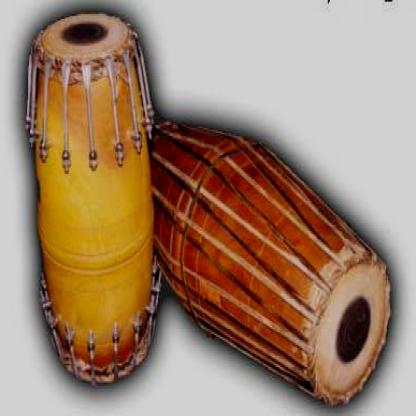Mridangam: (139, 102, 400, 412)
